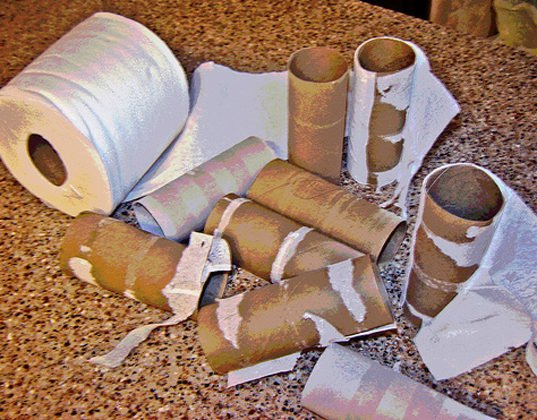Tissue: (4, 11, 189, 218), (347, 32, 461, 197)
